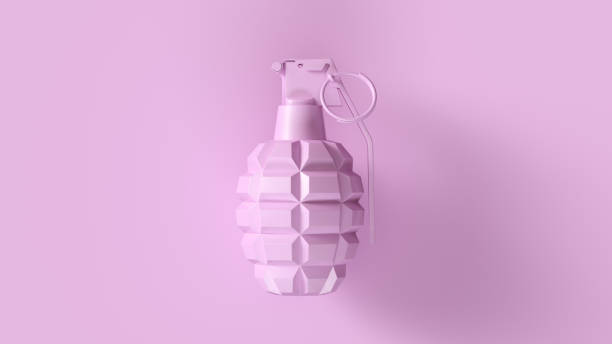e1: (233, 54, 380, 300)
